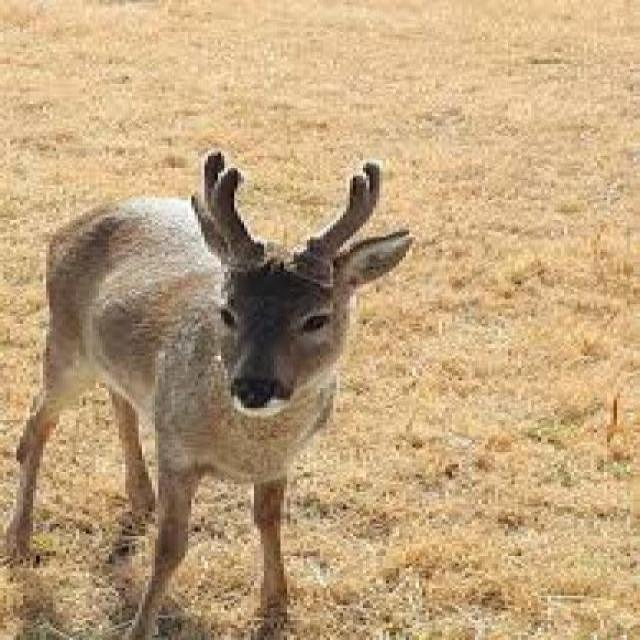deer: (14, 116, 414, 635)
